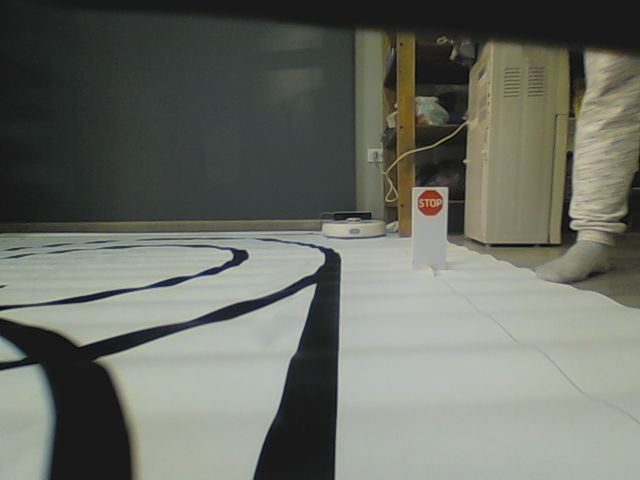Stop: (416, 189, 444, 216)
